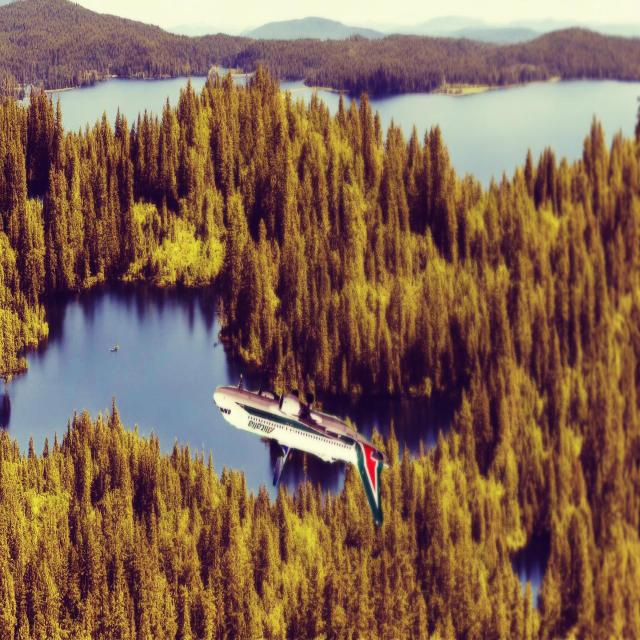airplane: (212, 373, 390, 528)
